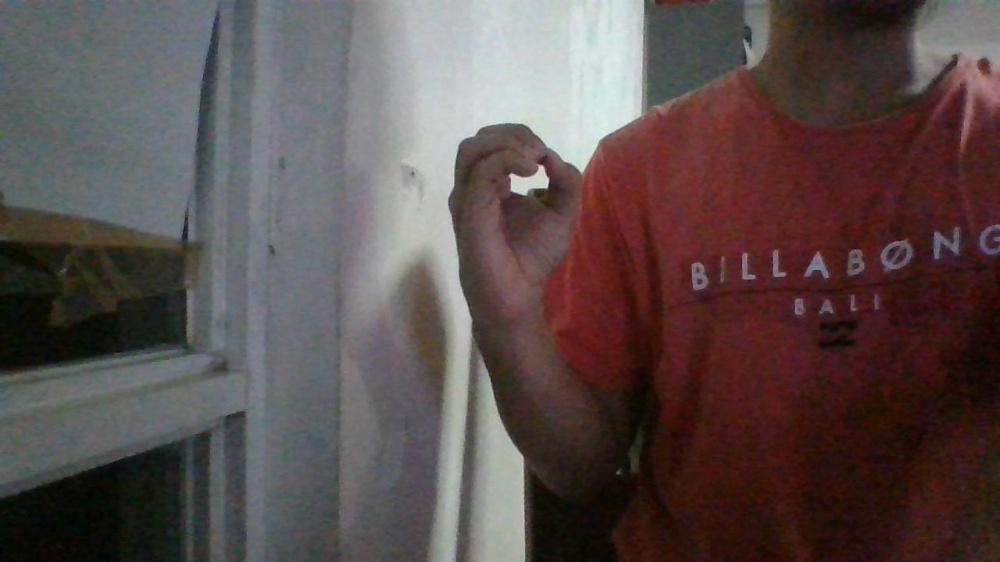o: (446, 121, 584, 322)
